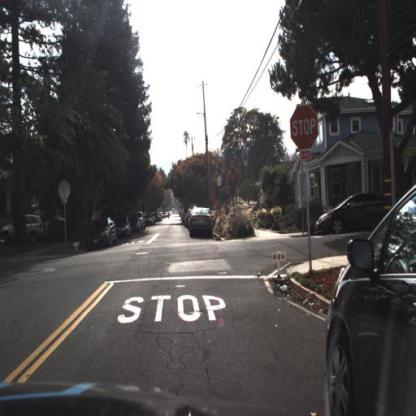car: (325, 182, 416, 416), (308, 192, 394, 242), (1, 213, 46, 245), (88, 218, 118, 249), (189, 205, 213, 238), (116, 218, 132, 239), (128, 213, 141, 234), (136, 208, 147, 231)
